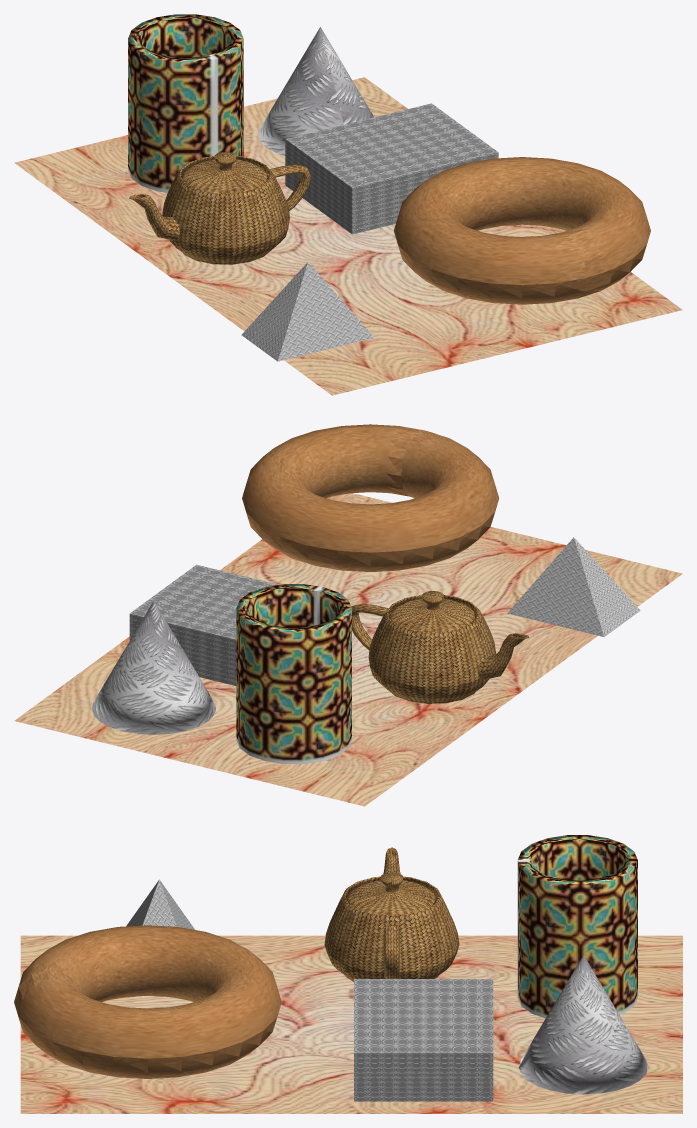
File: TestAssetsPlane.obj
3 renders of one model, top to bottom at view 1: azimuth 30°, elevation 25°; view 2: azimuth 150°, elevation 25°; view 3: azimuth 270°, elevation 25°, orthographic. The views are drawn at different scales.
Parts seen in each view (by area): view 1: Plane001 transform1, transform1 Torus001, transform1 Tube001, transform1 Box001, transform1 Teapot001, transform1 Pyramid001, transform1 Cone001; view 2: Plane001 transform1, transform1 Torus001, transform1 Tube001, transform1 Teapot001, transform1 Cone001, transform1 Box001, transform1 Pyramid001; view 3: Plane001 transform1, transform1 Torus001, transform1 Tube001, transform1 Box001, transform1 Teapot001, transform1 Cone001, transform1 Pyramid001.
Boxes of the visible parts, x1,y1,x2,y2 form: Plane001 transform1: (14, 77, 682, 395); transform1 Torus001: (394, 157, 650, 304); transform1 Tube001: (128, 14, 243, 192); transform1 Box001: (285, 103, 498, 234); transform1 Teapot001: (129, 152, 310, 264); transform1 Pyramid001: (241, 262, 374, 361); transform1 Cone001: (258, 27, 373, 155); Plane001 transform1: (14, 493, 682, 806); transform1 Torus001: (242, 424, 499, 571); transform1 Tube001: (236, 584, 351, 763); transform1 Teapot001: (351, 591, 529, 703); transform1 Cone001: (91, 601, 215, 734); transform1 Box001: (129, 564, 278, 685); transform1 Pyramid001: (507, 537, 640, 636); Plane001 transform1: (20, 935, 682, 1113); transform1 Torus001: (14, 925, 281, 1078); transform1 Tube001: (517, 835, 637, 1018); transform1 Box001: (354, 979, 493, 1101); transform1 Teapot001: (324, 847, 459, 981); transform1 Cone001: (519, 955, 648, 1094); transform1 Pyramid001: (126, 879, 194, 929).
Bounding box in the file's own units: 91.8 × 29.84 × 132.
7 materials, 7 textured.
